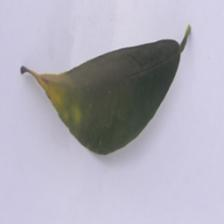black spot: (92, 30, 202, 141)
